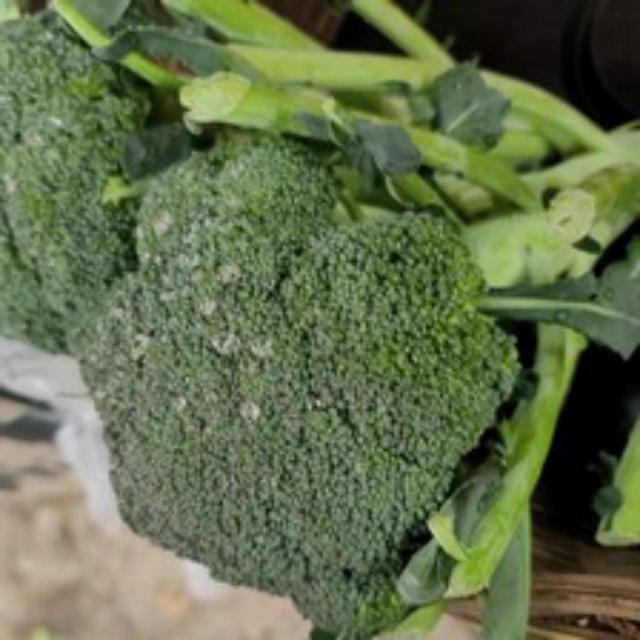broccoli: (49, 126, 526, 635)
